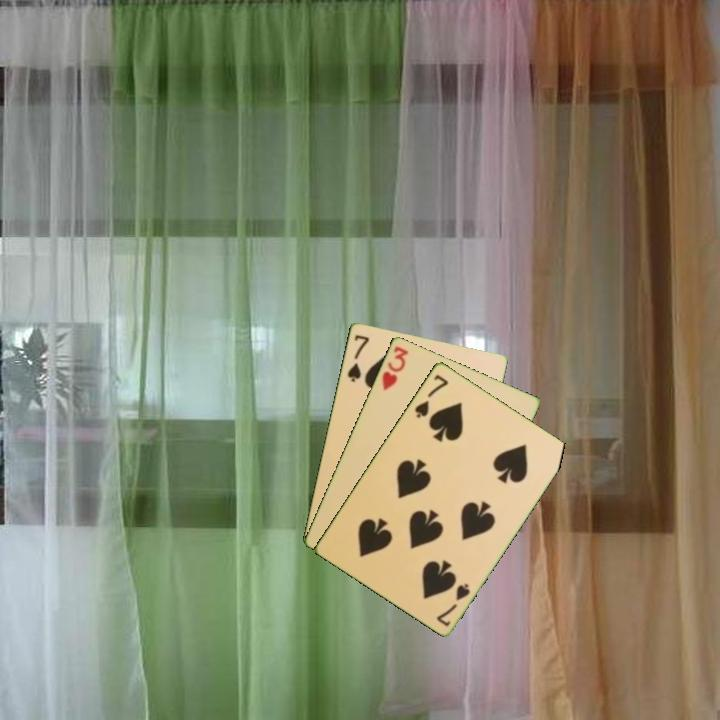3h: (378, 342, 411, 393)
7s: (411, 370, 451, 421), (433, 579, 473, 629), (344, 331, 372, 385)
